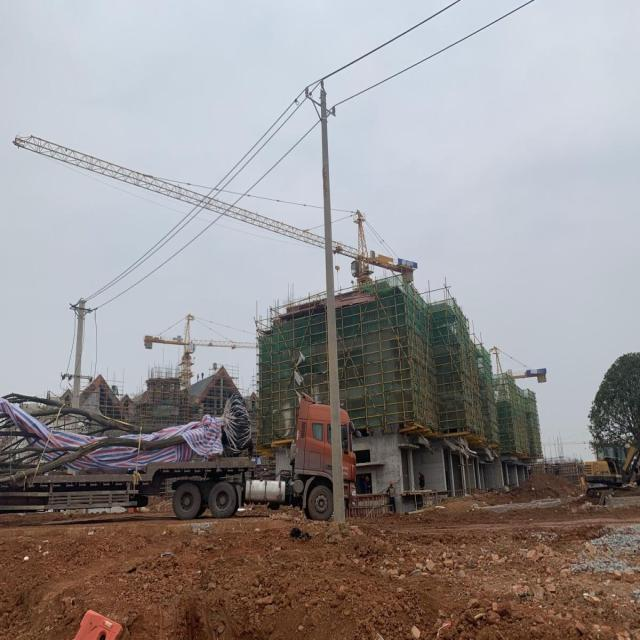crane: (6, 124, 422, 303), (139, 308, 267, 390), (487, 340, 554, 390)
excavator: (569, 429, 640, 513)
